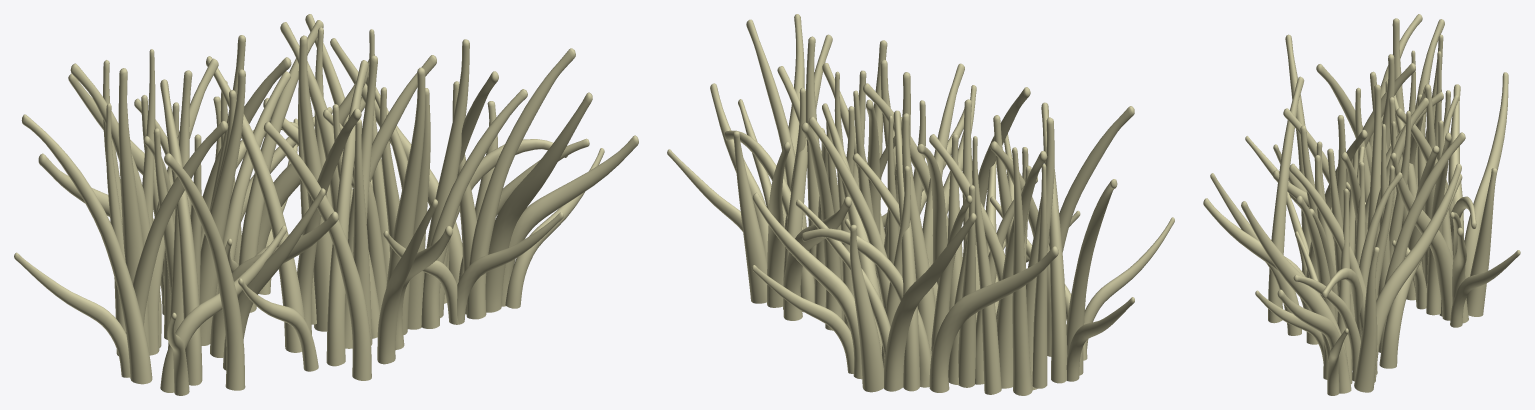
Rendered from haicao_5.FBX.
3 views of the same model, side by side, from view 1: azimuth 30°, elevation 25°; view 2: azimuth 150°, elevation 25°; view 3: azimuth 270°, elevation 25° (orthographic). The views are drawn at different scales.
Visible parts, largest first — view 1: objLoft042; view 2: objLoft042; view 3: objLoft042.
Boxes of the visible parts, <box> form: objLoft042: <box>14,14,638,395</box>; objLoft042: <box>667,14,1174,395</box>; objLoft042: <box>1203,14,1520,395</box>.
Size of the model in its own units: 1054 by 545 by 653.
